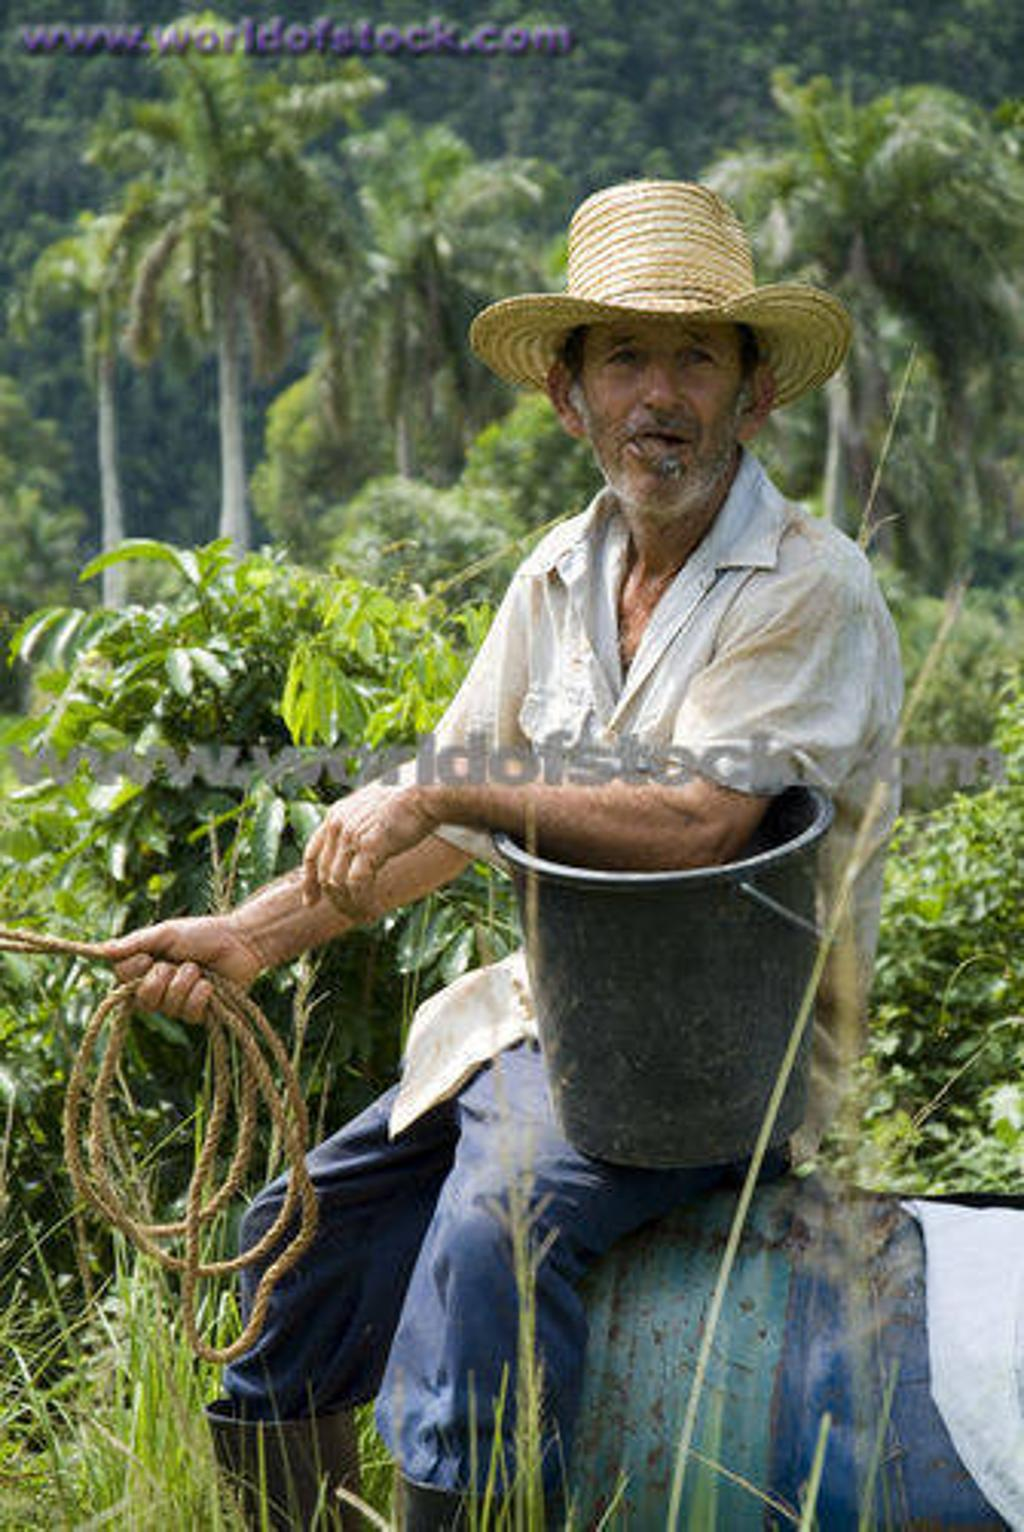face: (596, 287, 755, 512)
